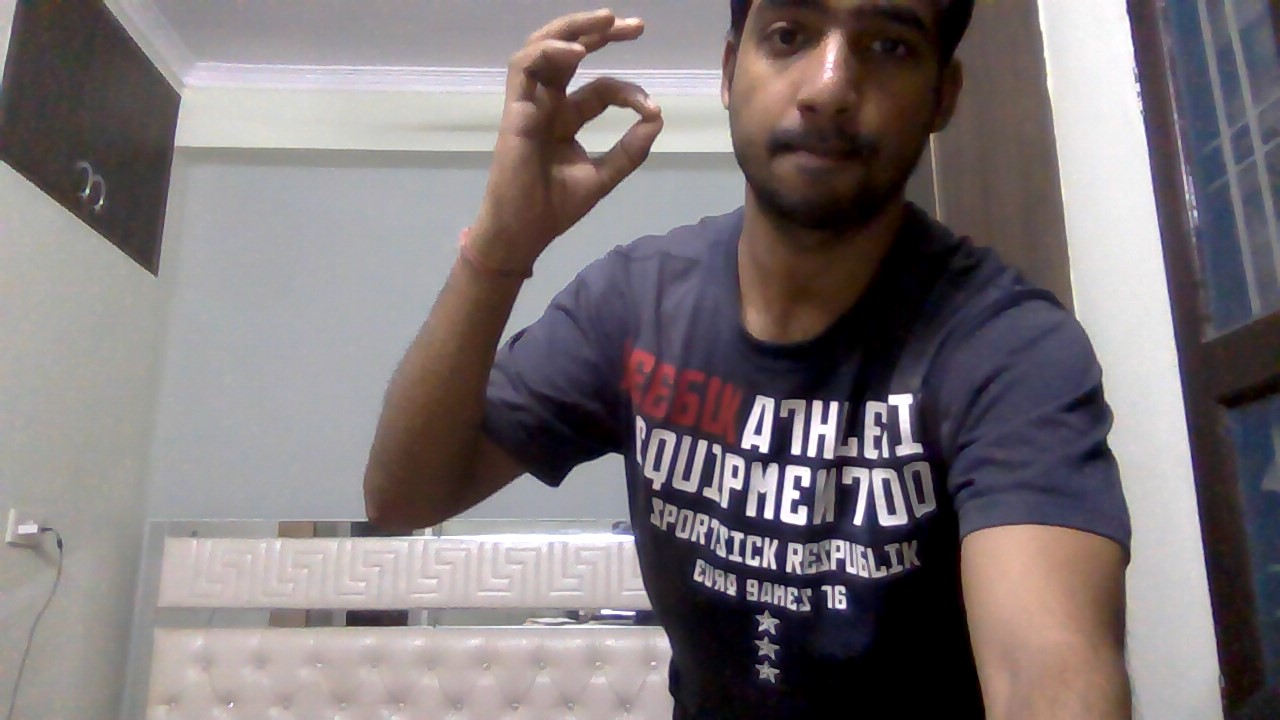Copy: (477, 3, 672, 255)
